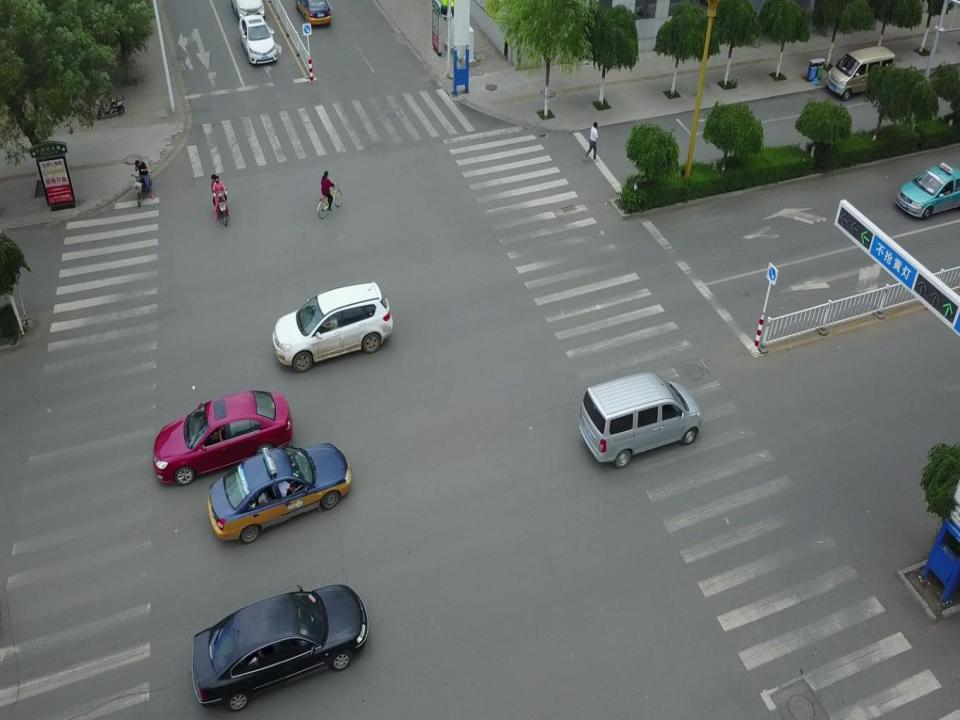car: (189, 582, 369, 712), (209, 439, 351, 545), (153, 388, 294, 486), (271, 279, 395, 371), (894, 162, 959, 220), (239, 13, 279, 67), (293, 0, 331, 26), (230, 0, 264, 17)
van: (578, 372, 702, 467), (826, 43, 895, 102)
